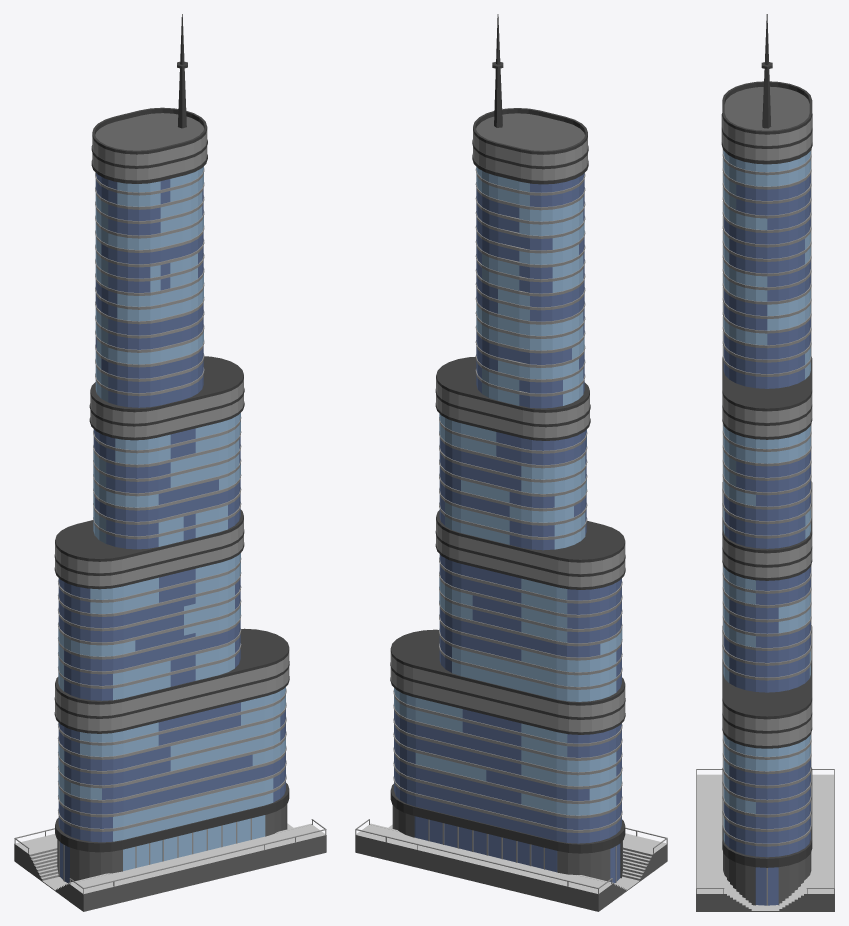
The model's file is skyscraper_002.fbx.
3 renders of one model, left to right at view 1: azimuth 30°, elevation 25°; view 2: azimuth 150°, elevation 25°; view 3: azimuth 270°, elevation 25°, orthographic.
Parts seen in each view (by area): view 1: skyscraper_002; view 2: skyscraper_002; view 3: skyscraper_002.
Part boxes in pixels (x1,y1,x2,y2): skyscraper_002: (14, 14, 326, 911); skyscraper_002: (355, 14, 667, 911); skyscraper_002: (696, 14, 834, 911).
Bounding box in the file's own units: 2988 × 9874 × 1471.
